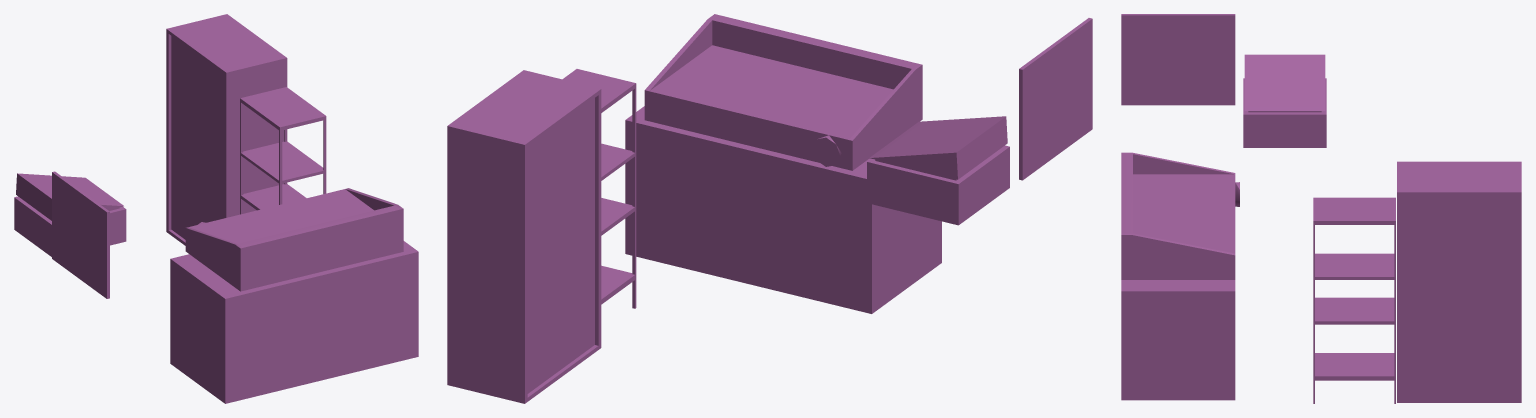
File: yumBuster.fbx
3 views of the same model, side by side, from view 1: azimuth 30°, elevation 25°; view 2: azimuth 150°, elevation 25°; view 3: azimuth 270°, elevation 25° (orthographic). The views are drawn at different scales.
Visible parts, largest first — view 1: table, fridge, stovetop, shelf, menu, cashier; view 2: fridge, table, stovetop, cashier, menu, shelf; view 3: fridge, table, stovetop, menu, shelf, cashier.
Part boxes in pixels (left/top/right/bottom): table: left=170, top=241, right=418, bottom=403; fridge: left=166, top=14, right=287, bottom=245; stovetop: left=185, top=188, right=403, bottom=291; shelf: left=240, top=87, right=326, bottom=214; menu: left=52, top=171, right=109, bottom=298; cashier: left=14, top=173, right=126, bottom=256; fridge: left=447, top=70, right=601, bottom=403; table: left=625, top=106, right=941, bottom=313; stovetop: left=644, top=14, right=922, bottom=170; cashier: left=867, top=116, right=1009, bottom=225; menu: left=1019, top=18, right=1092, bottom=180; shelf: left=562, top=69, right=636, bottom=308; fridge: left=1397, top=161, right=1521, bottom=402; table: left=1121, top=280, right=1235, bottom=400; stovetop: left=1121, top=152, right=1239, bottom=279; menu: left=1121, top=14, right=1235, bottom=105; shelf: left=1313, top=197, right=1395, bottom=403; cashier: left=1243, top=54, right=1326, bottom=147.
Bounding box in the file's own units: 290 × 198 × 310.
